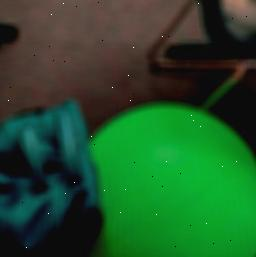algae: (82, 102, 256, 257)
